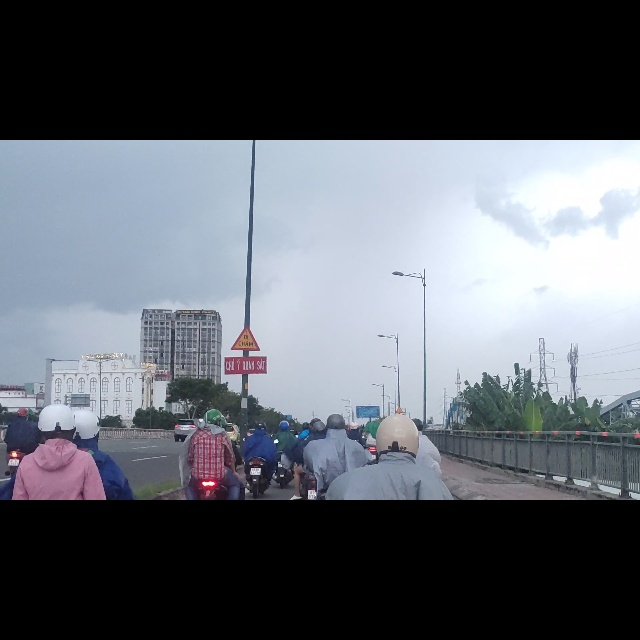bien_cam: (230, 328, 260, 376)
